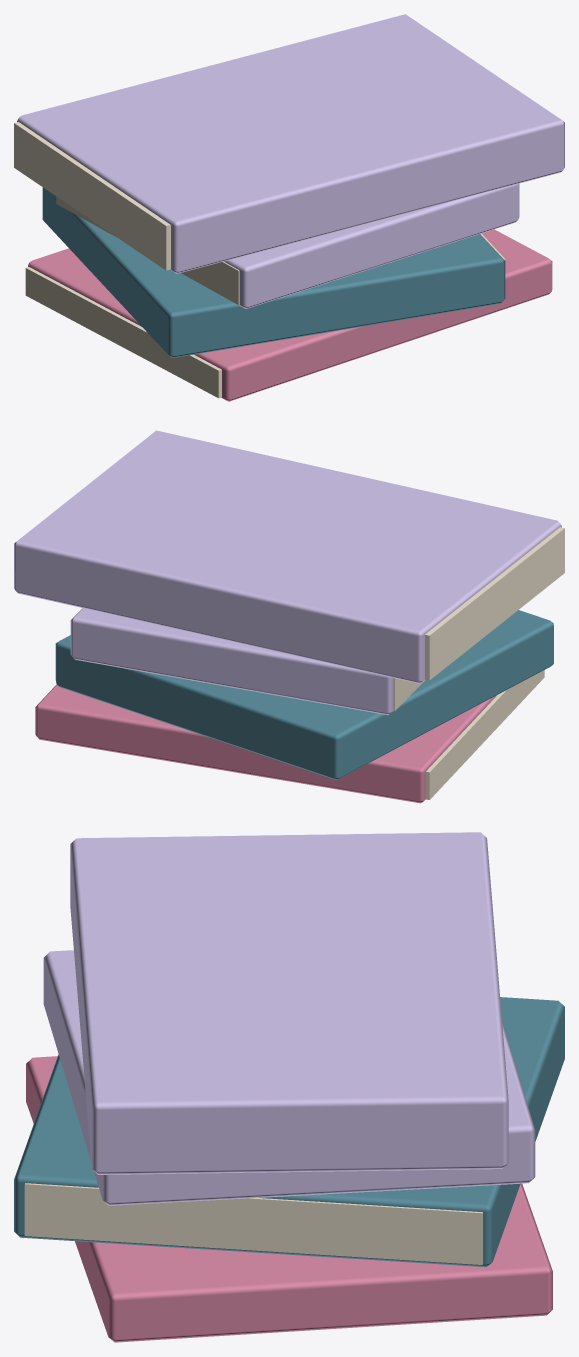
The model's file is books_shelf_0.fbx.
The picture shows the model from 3 angles, top to bottom: view 1: azimuth 30°, elevation 25°; view 2: azimuth 150°, elevation 25°; view 3: azimuth 270°, elevation 25°; orthographic projection. The views are drawn at different scales.
Visible parts, largest first — view 1: books_shelf_0; view 2: books_shelf_0; view 3: books_shelf_0.
Boxes of the visible parts, x1,y1,x2,y2 form: books_shelf_0: [14, 14, 564, 401]; books_shelf_0: [14, 430, 564, 803]; books_shelf_0: [14, 832, 564, 1342].
Bounding box in the file's own units: 0.3095 × 0.1272 × 0.2592.
